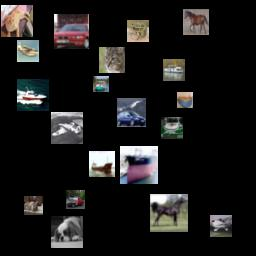airplane: (51, 112, 83, 144), (17, 40, 39, 62), (210, 215, 232, 237)
automobile: (54, 14, 89, 49), (117, 98, 146, 127), (161, 117, 183, 139)
cat: (1, 5, 33, 37), (99, 47, 125, 73), (24, 196, 43, 215), (177, 92, 193, 108)
dog: (51, 216, 83, 248)
frog: (127, 20, 149, 42)
ship: (120, 146, 158, 184), (17, 79, 49, 111), (89, 151, 115, 177), (163, 59, 185, 81), (93, 76, 109, 92)
truck: (66, 190, 85, 209)
